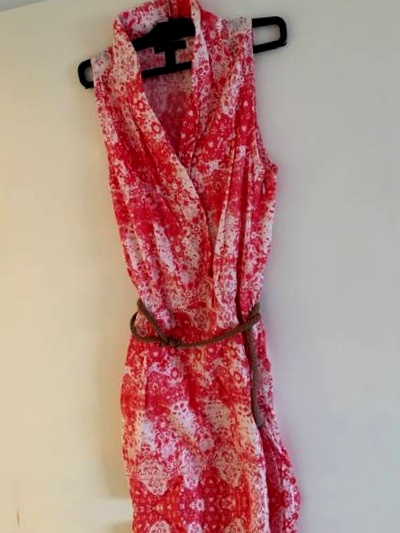Dress: (36, 0, 340, 515), (71, 496, 376, 533)
